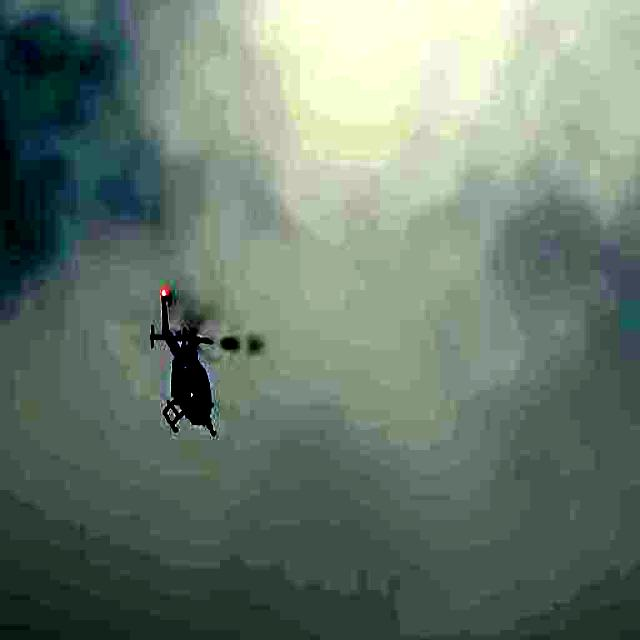drone: (148, 291, 224, 445)
